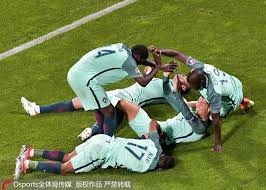falling: (28, 54, 181, 132)
